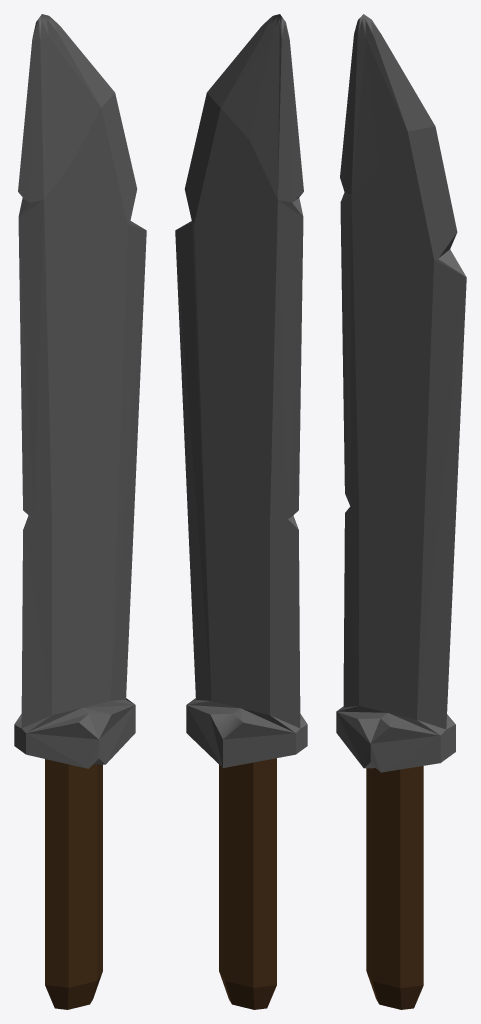
File: stone_sword.glb
3 views of the same model, side by side, from view 1: azimuth 30°, elevation 25°; view 2: azimuth 150°, elevation 25°; view 3: azimuth 330°, elevation 25° (orthographic).
Parts seen in each view (by area): view 1: sword stone; view 2: sword stone; view 3: sword stone.
Boxes of the visible parts, x1,y1,x2,y2 form: sword stone: (14, 14, 146, 1009); sword stone: (175, 14, 307, 1009); sword stone: (336, 14, 466, 1009).
Size of the model in its own units: 0.1116 by 0.8254 by 0.0749.
